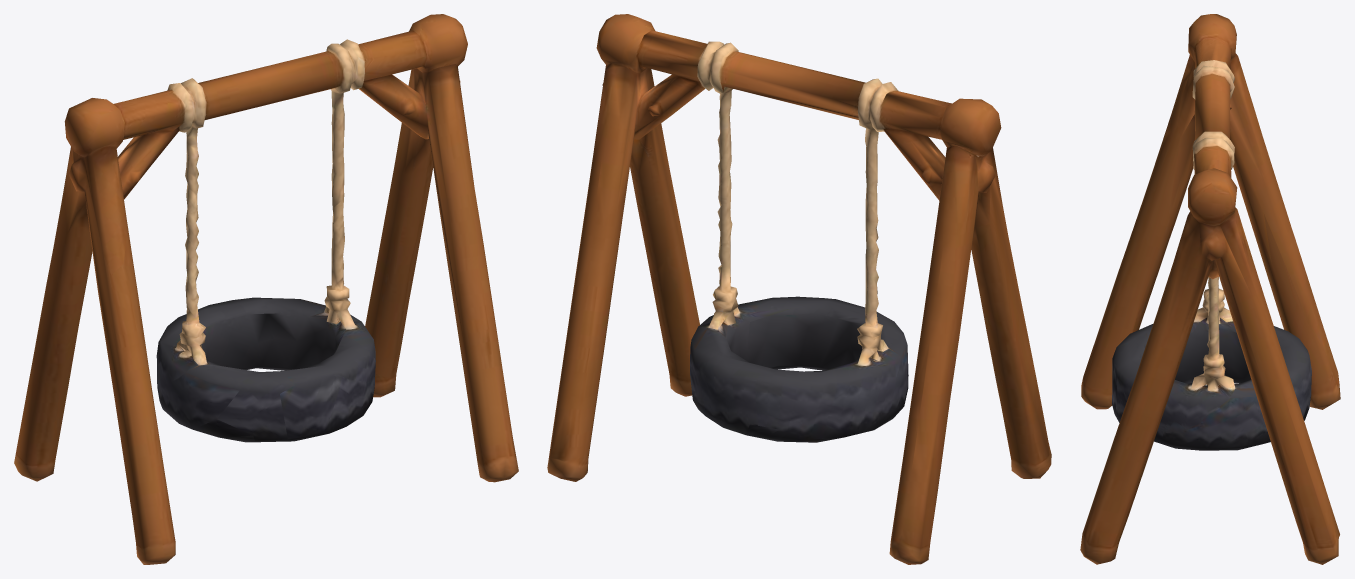
Rendered from tyreswing.glb.
The picture shows the model from 3 angles, left to right: view 1: azimuth 30°, elevation 25°; view 2: azimuth 150°, elevation 25°; view 3: azimuth 270°, elevation 25°; orthographic projection. The views are drawn at different scales.
Parts seen in each view (by area): view 1: model; view 2: model; view 3: model.
Boxes of the visible parts, x1,y1,x2,y2 form: model: (14, 14, 518, 564); model: (547, 14, 1051, 564); model: (1080, 14, 1340, 564).
Bounding box in the file's own units: 1.82 × 1.9 × 1.15.
Materials: 1 (1 with a texture image).
